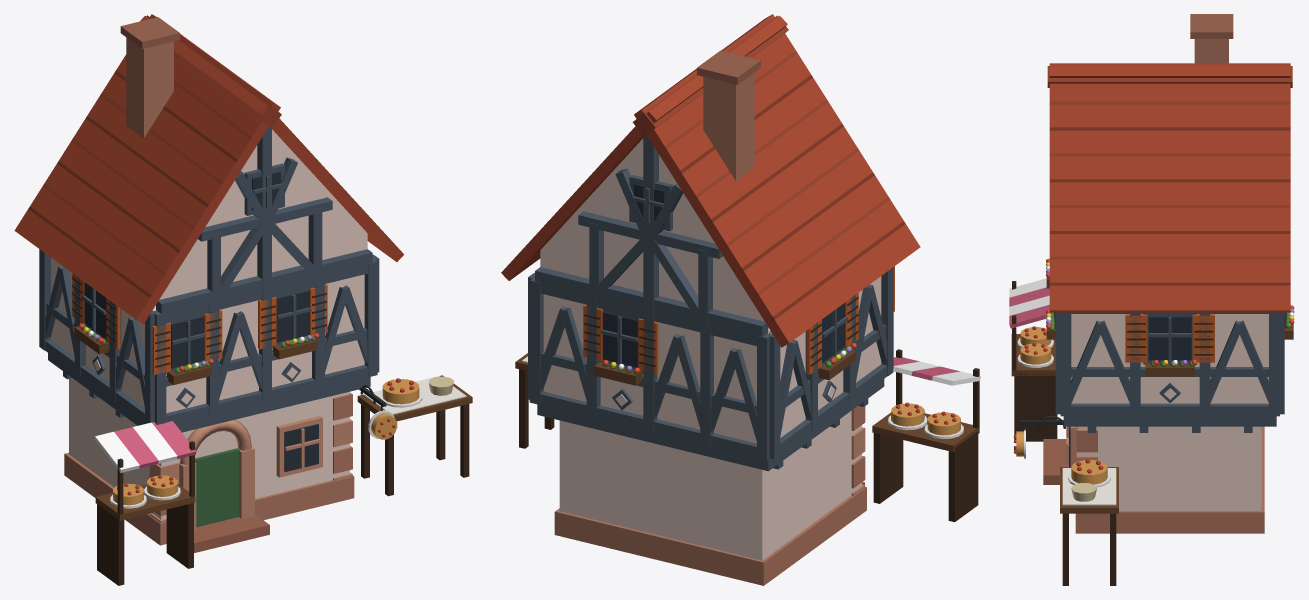
Rendered from konditorei.glb.
The picture shows the model from 3 angles, left to right: view 1: azimuth 30°, elevation 25°; view 2: azimuth 150°, elevation 25°; view 3: azimuth 270°, elevation 25°; orthographic projection. The views are drawn at different scales.
Bounding box in the file's own units: 4 × 4.57 × 2.65.
